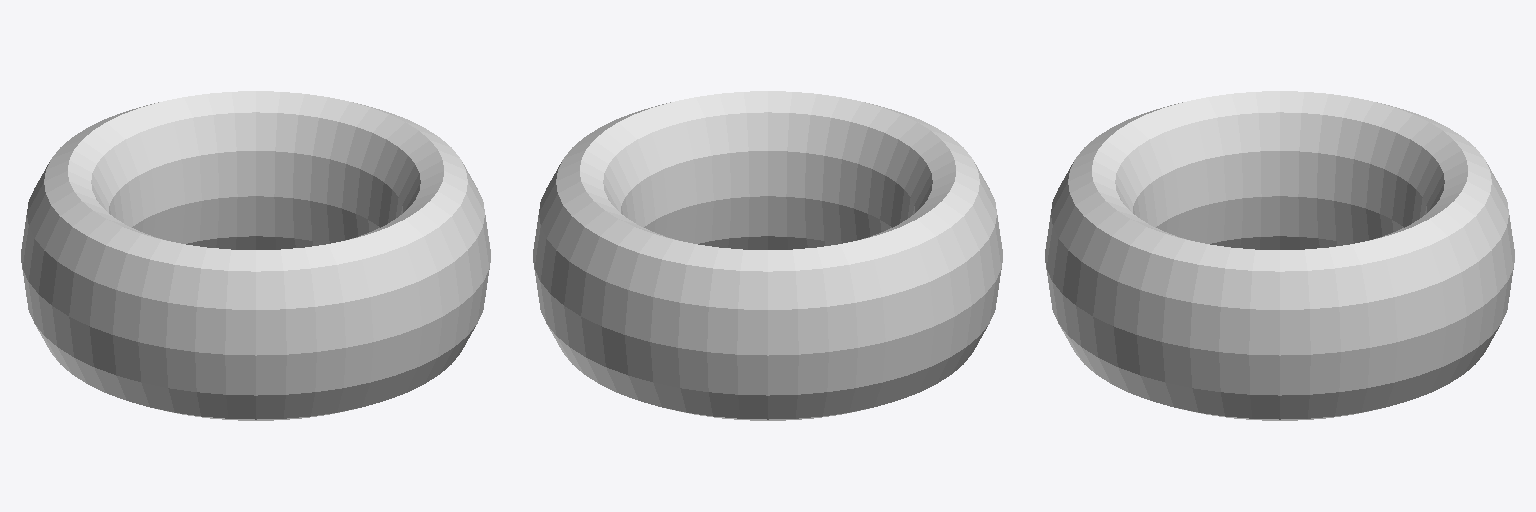
The robot description file, URDF, robot "test_robot":
<robot name="test_robot">
    <link name="base_link"/>

    <link name="link1">
        <visual>
            <geometry>
                <mesh filename="hole.stl" />
            </geometry>
            <origin xyz="0 0 0" rpy="0 0 0"/>
            <material name="red">
                <color rgba="0.9 0.9 0.9 2.0"/>
            </material>
        </visual>
         <collision>
      <geometry>
         <mesh filename="hole.stl" />
      </geometry>
    </collision>
    </link>
    <joint name="joint1" type="fixed">
        <parent link="base_link"/>
        <child  link="link1"/>
    </joint>
</robot>

--- Facts derived from the render (not from the file) ---
Views: 3 orthographic renders of the robot side by side, from view 1: azimuth 30°, elevation 25°; view 2: azimuth 150°, elevation 25°; view 3: azimuth 270°, elevation 25°.
Model test_robot with 2 links and 1 joints (1 fixed), rooted at base_link, posed every joint at zero.
Visible links, largest first — view 1: link1; view 2: link1; view 3: link1.
Link boxes in pixels (left/top/right/bottom): link1: left=21, top=91, right=490, bottom=420; link1: left=533, top=91, right=1002, bottom=420; link1: left=1045, top=91, right=1514, bottom=420.
Bounding box of the posed robot: 0.5 × 0.5 × 0.2 m (x, y, z).
Meshes: 1 distinct files referenced, 1 mesh visuals loaded (1 binary STL).